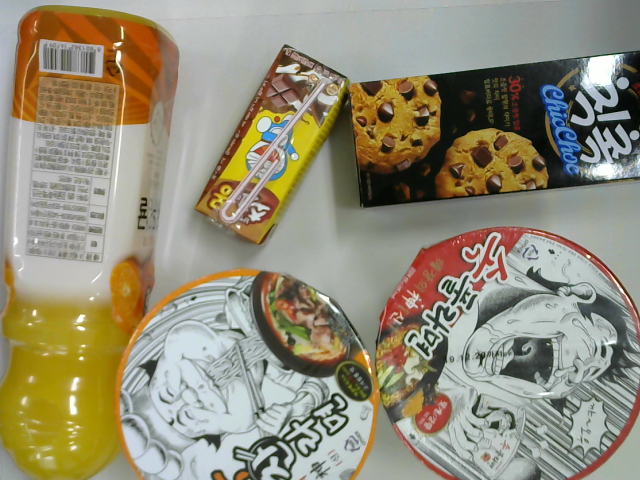Chicchok_Original_2400: (348, 48, 640, 209)
Choco_E_Mong: (194, 43, 352, 247)
Hejangchan: (112, 269, 380, 480)
Hejangpul: (374, 223, 640, 479)
Jeju_Tangerine_1.5L: (1, 4, 181, 480)
